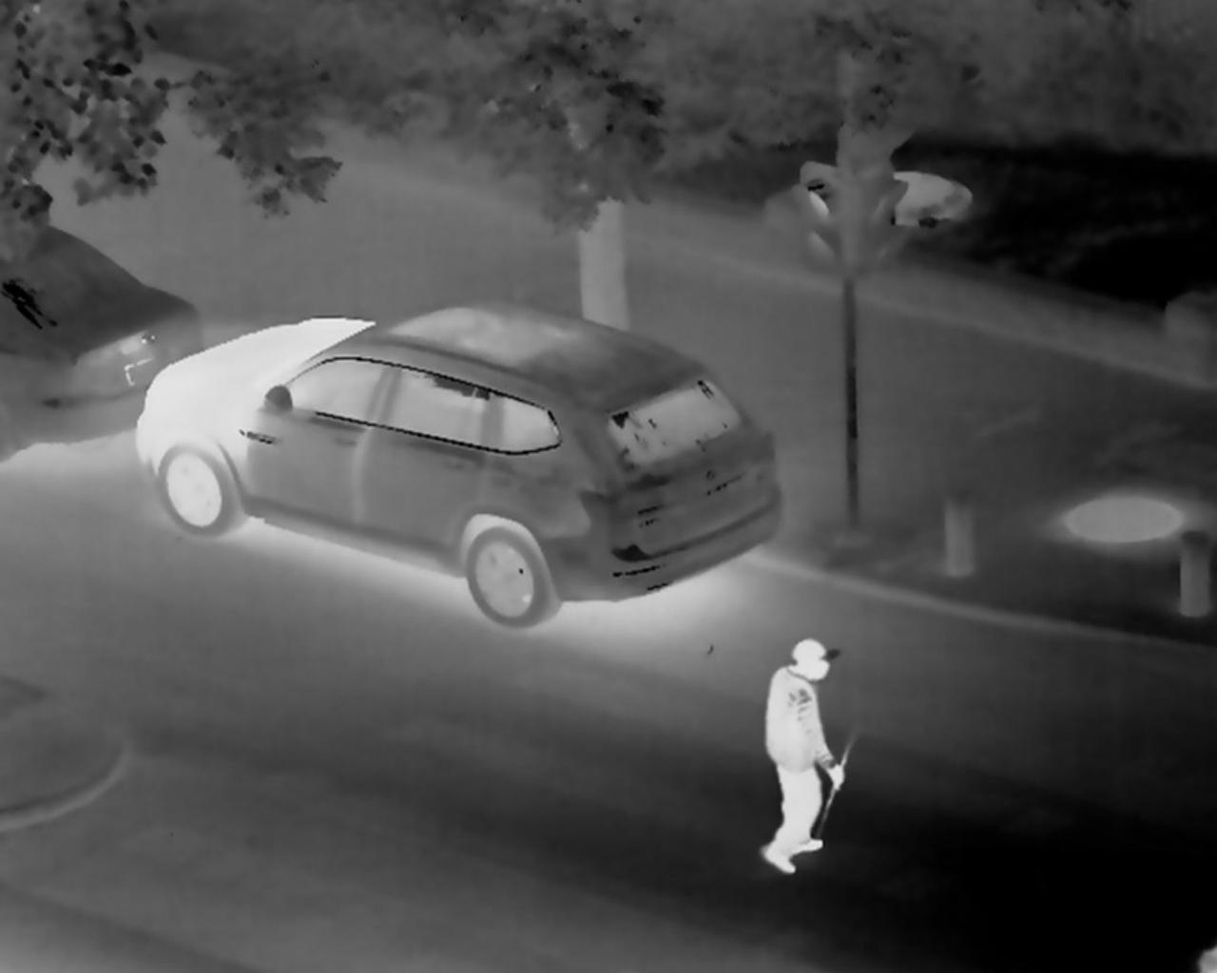person: (753, 615, 872, 887)
